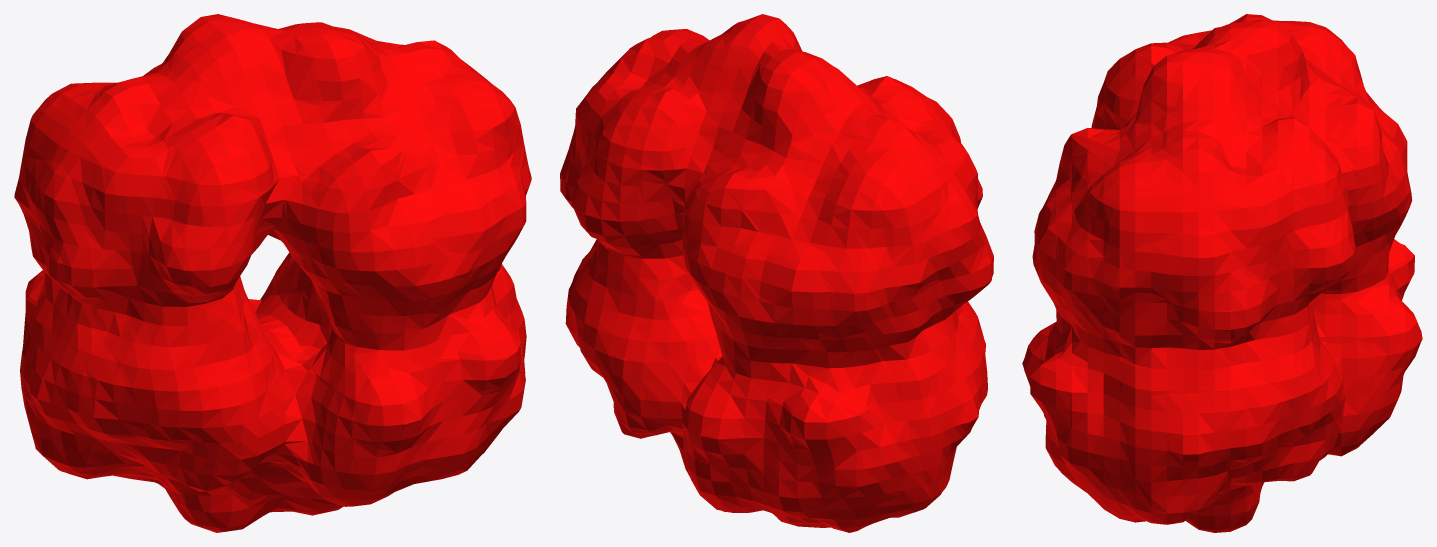
File: yagE_coarse.dae
The picture shows the model from 3 angles, left to right: view 1: azimuth 30°, elevation 25°; view 2: azimuth 150°, elevation 25°; view 3: azimuth 270°, elevation 25°; orthographic projection. The views are drawn at different scales.
Parts seen in each view (by area): view 1: yagE; view 2: yagE; view 3: yagE.
Boxes of the visible parts, x1,y1,x2,y2 form: yagE: (14, 14, 531, 532); yagE: (560, 14, 993, 532); yagE: (1022, 14, 1422, 532).
Bounding box in the file's own units: 84.5 × 88.55 × 69.06.
